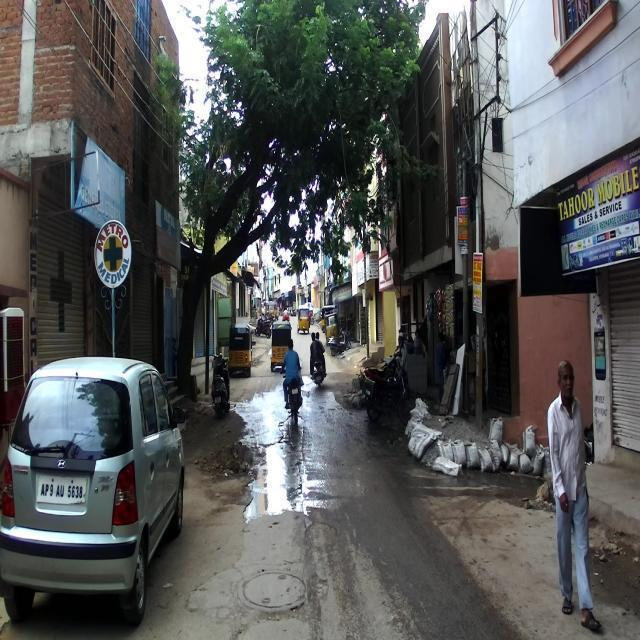Pothole: (240, 568, 307, 612)
